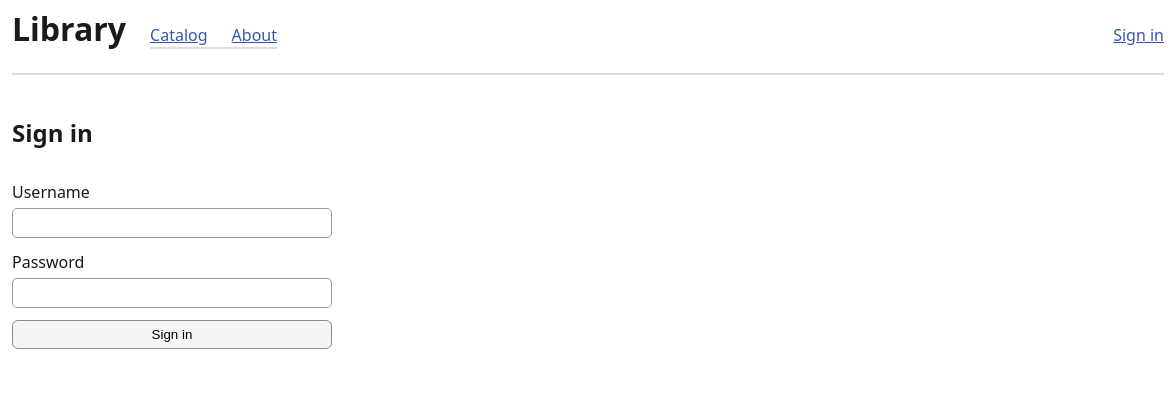
login › shows the error message for bad credentials
The image size is (1176, 417).
Type "ada" into the field labelled "Username" at [172, 223], box [12, 208, 332, 238]
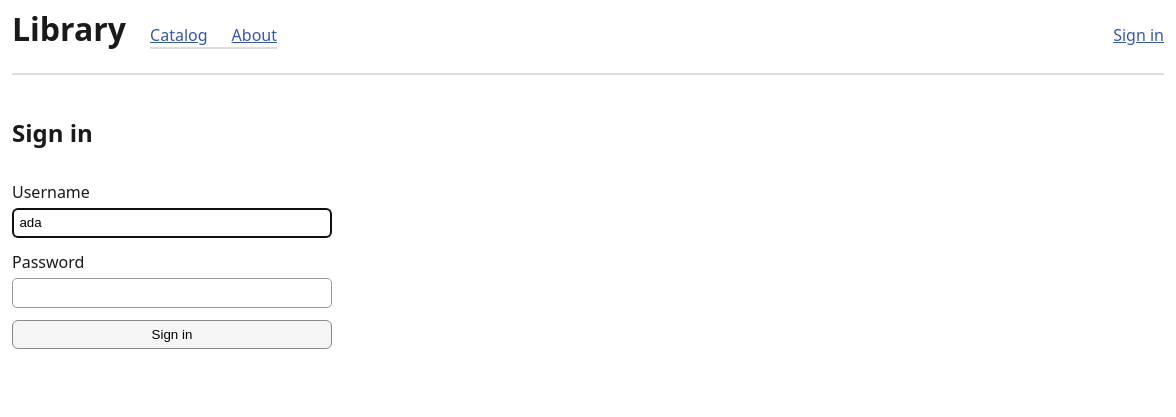
Type "wrong-password" into the password field labelled "Password" at [172, 293], box [12, 278, 332, 308]
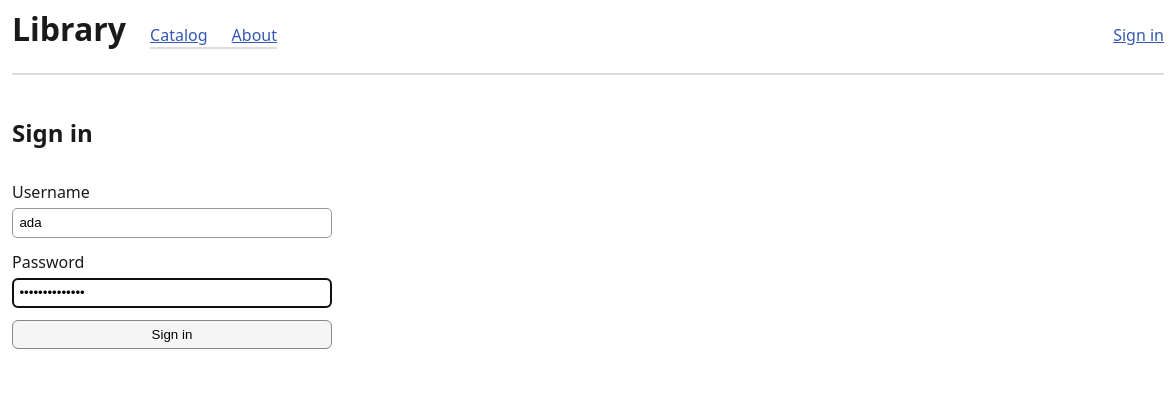
Click the button "Sign in" at [172, 335], box [12, 320, 332, 350]
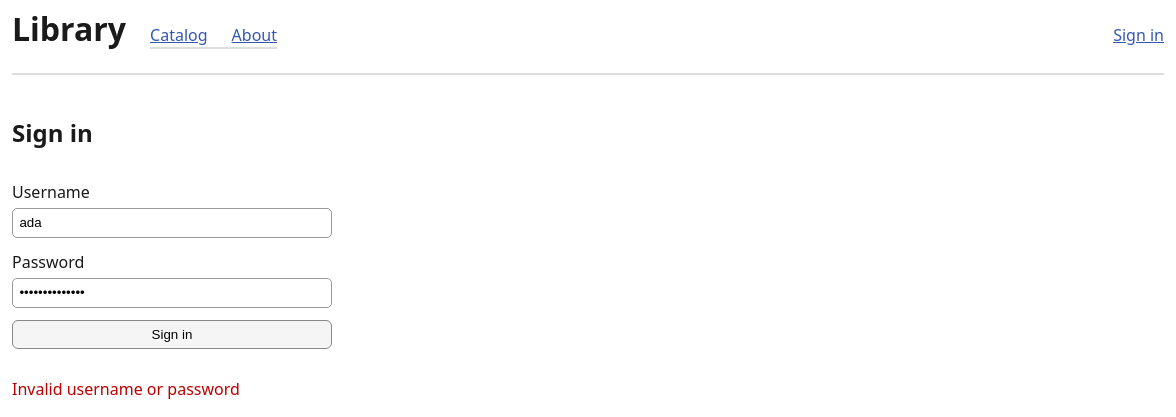
Expected: the link "Sign in" is shown, [1113, 23, 1164, 47]
Now the text with class "error" reads "Invalid username or password", box [12, 378, 240, 400]
